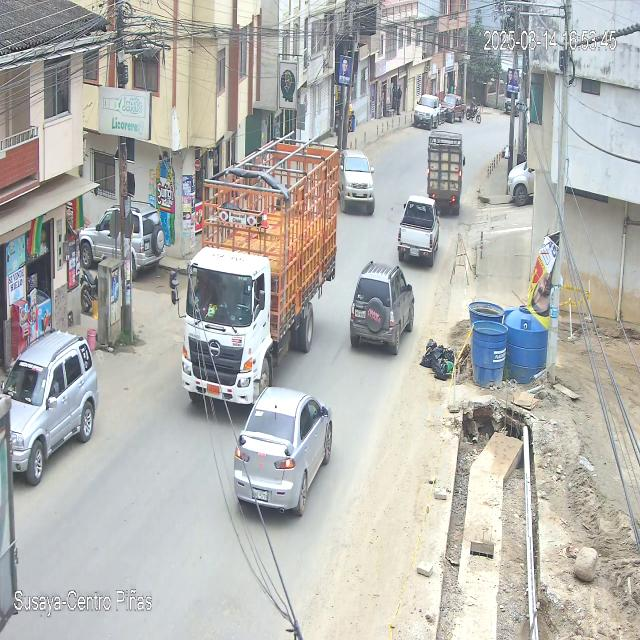SED: (233, 388, 333, 518)
SUV: (4, 335, 101, 487), (349, 263, 414, 357)
TRUCK: (182, 213, 338, 405)
